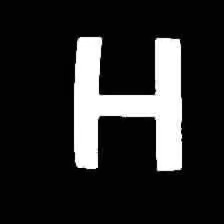LTR_H: (61, 20, 187, 174)
